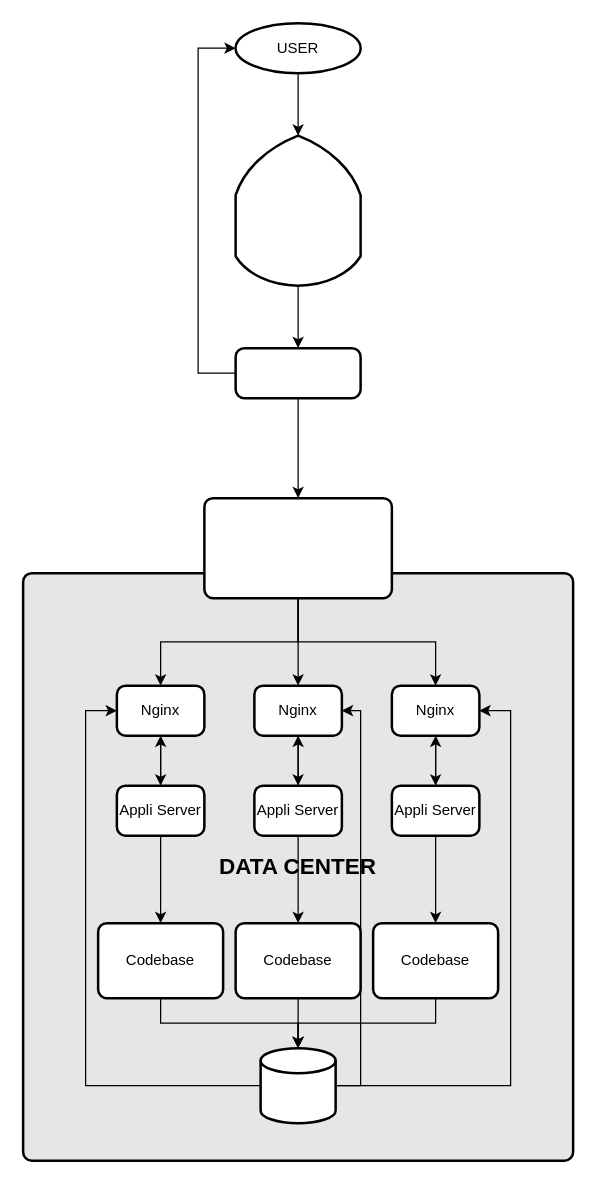
Image size: 595x1183. Some labels were removed from this diagram. The shapes that lost their labels are listed below. From the top down, each one's centre as x and y in pixels, then its label:
At pixel 297 210: "Requête www.foobar.com".
At pixel 297 372: "DNS Server".
At pixel 297 547: "HAproxy".
At pixel 297 1085: "MySQL".
